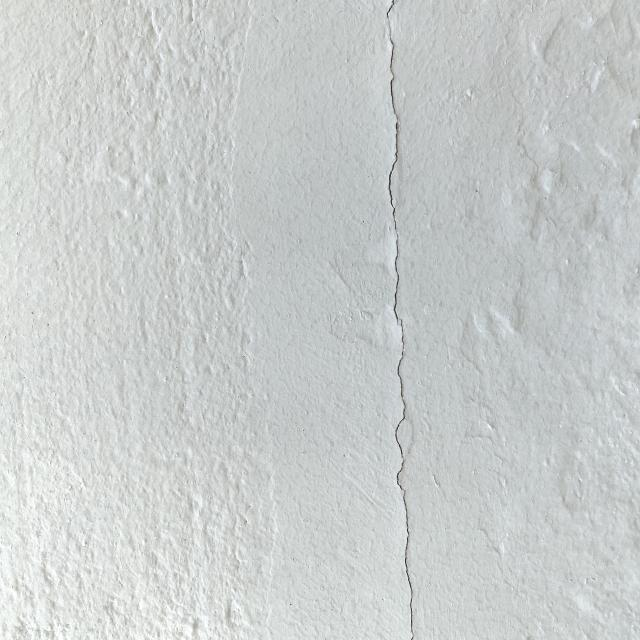SurfaceCrack: (342, 1, 463, 640)
